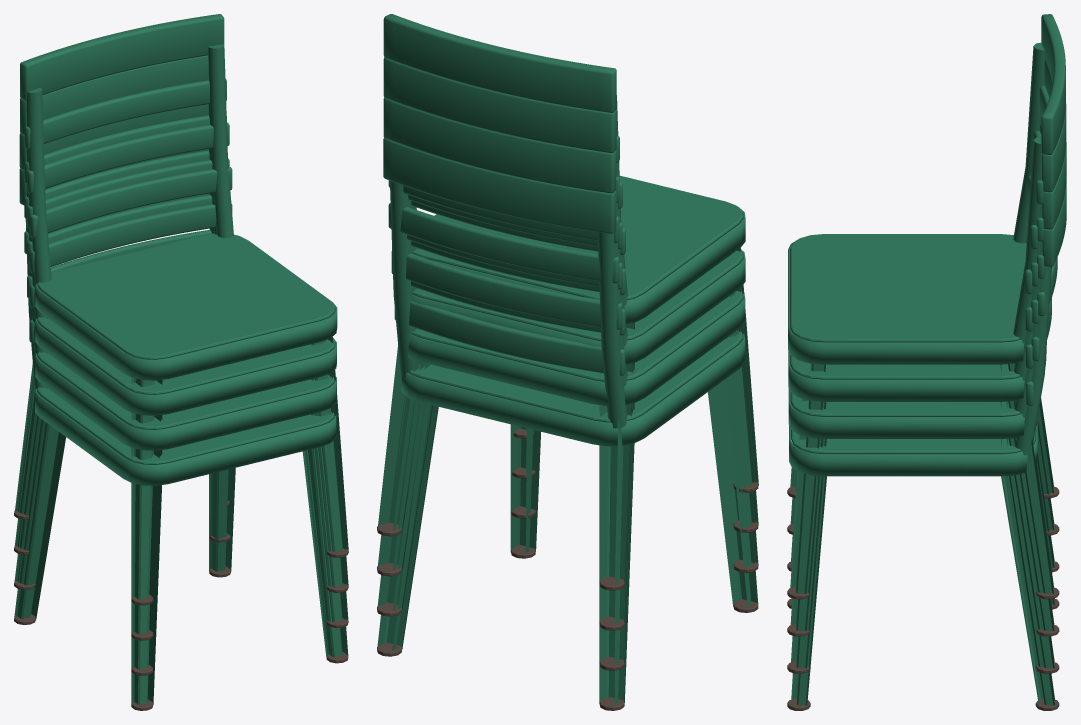
File: SM_PlasticChairStack_4.glb
3 renders of one model, left to right at view 1: azimuth 30°, elevation 25°; view 2: azimuth 150°, elevation 25°; view 3: azimuth 270°, elevation 25°, orthographic. The views are drawn at different scales.
Visible parts, largest first — view 1: SM_PlasticChairStack_4; view 2: SM_PlasticChairStack_4; view 3: SM_PlasticChairStack_4.
Boxes of the visible parts, x1,y1,x2,y2 form: SM_PlasticChairStack_4: (14,14,348,710); SM_PlasticChairStack_4: (377,14,758,710); SM_PlasticChairStack_4: (787,14,1066,710).
Size of the model in its own units: 0.3953 by 0.986 by 0.4229.
